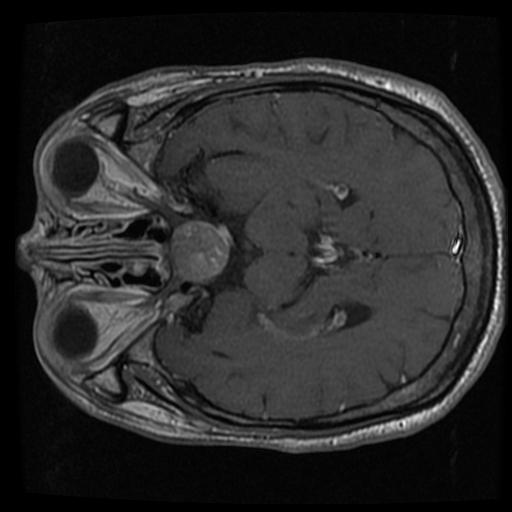pituitary tumour: (170, 222, 228, 283)
